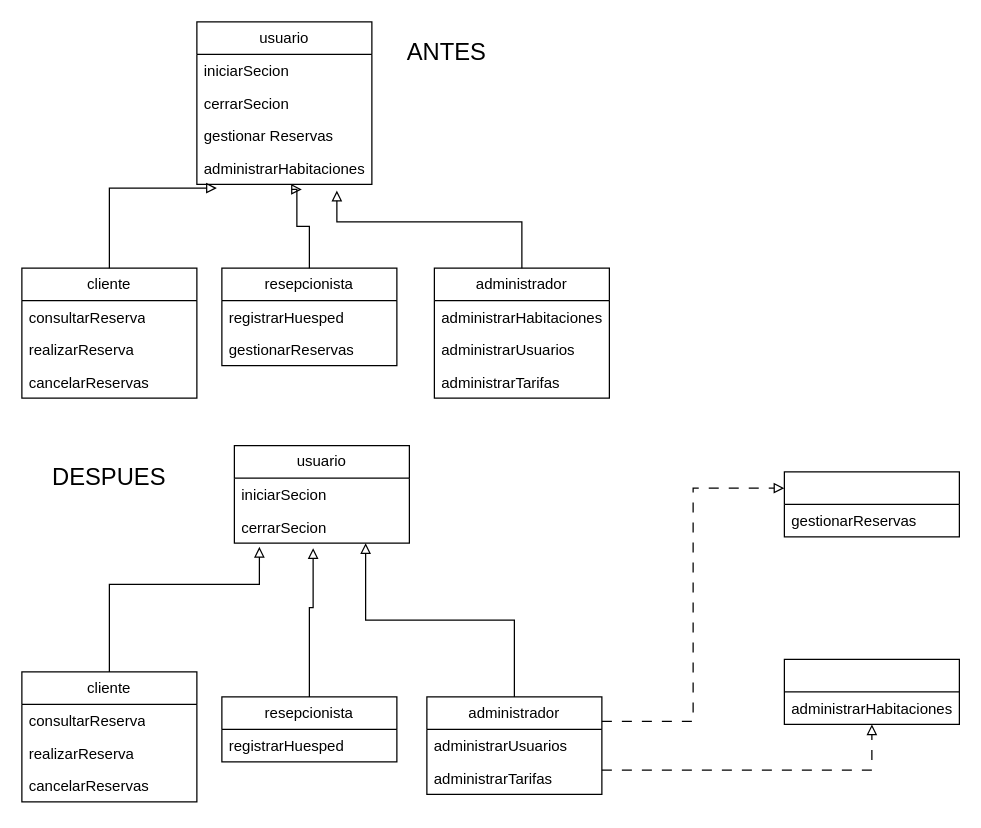
This 981x828 diagram has some shape labels left out. The shapes that lost their labels are listed below. From the top down, each one's box as (x1, y1, x2, y2) in pixels, then its label:
(783, 471, 959, 537): <<interface>> gestionaReservas
(783, 658, 959, 724): <<interface>> administraHabitaciones
